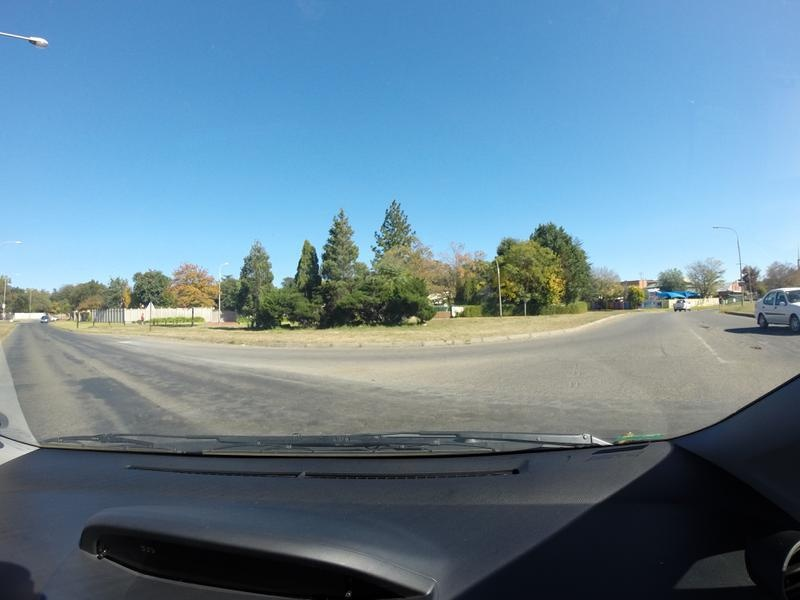pothole: (746, 341, 766, 357), (698, 319, 715, 337)
